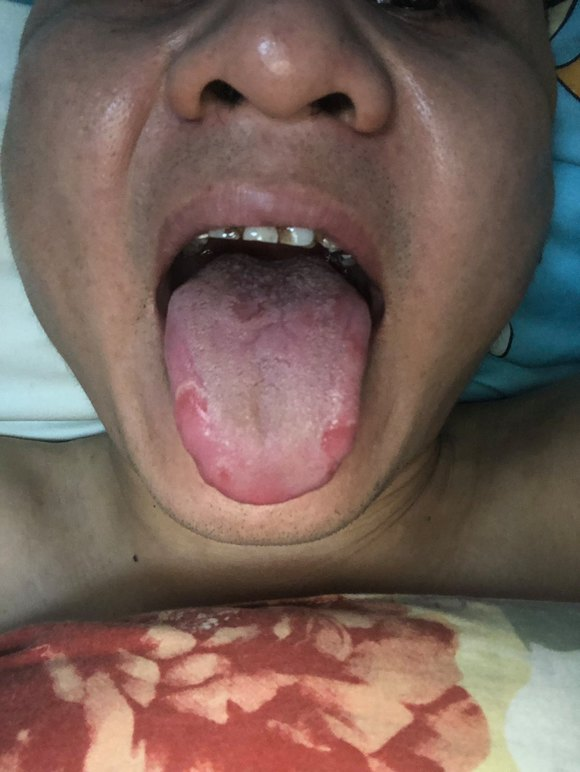baitaishe: (165, 257, 371, 505)
botaishe: (172, 378, 210, 428), (318, 418, 359, 464), (227, 288, 266, 326)
hongshe: (165, 257, 371, 505)
